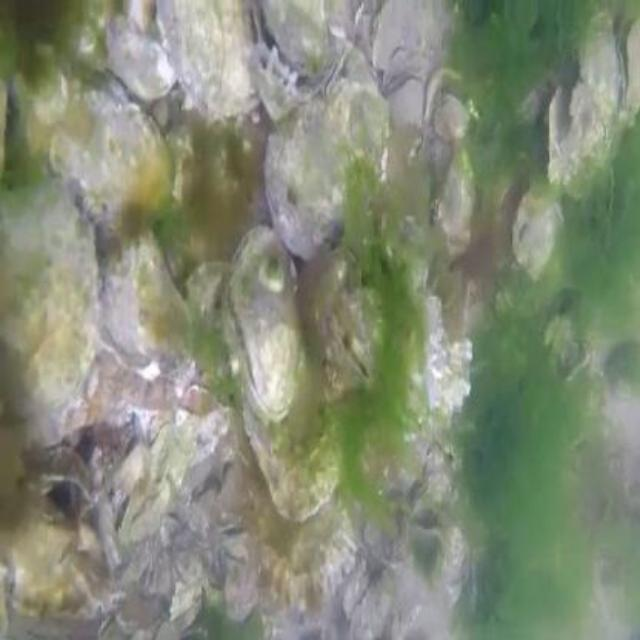Oyster-Closed: (304, 237, 471, 495), (16, 65, 170, 245), (0, 184, 103, 435), (266, 73, 391, 261), (243, 350, 340, 522), (221, 235, 311, 419), (101, 234, 194, 377), (156, 0, 258, 117), (65, 0, 178, 101), (372, 0, 444, 74), (431, 148, 477, 257), (511, 189, 562, 279), (384, 74, 428, 160), (182, 260, 230, 325), (322, 41, 353, 100), (382, 46, 407, 93)
Oyster-Open: (548, 12, 621, 192), (251, 0, 340, 89), (258, 55, 302, 122), (619, 7, 638, 119)
